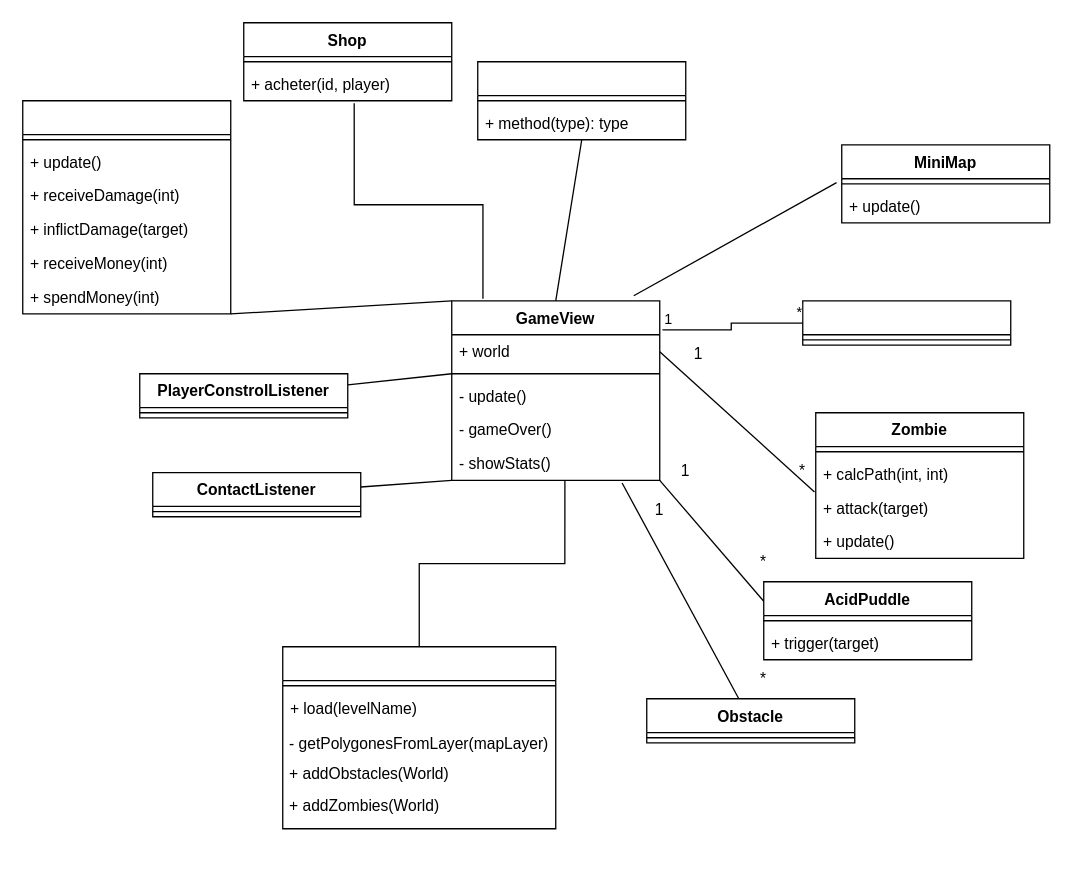
Image size: 1073x876. Some labels were removed from this diagram. The box of each missing label's shape, as (x1, y1, x2, y2) in pixels:
HealSpot: (801, 300, 1011, 345)
LevelLoader: (281, 645, 556, 829)
Player: (21, 99, 231, 314)
Pluton: (476, 60, 686, 140)
